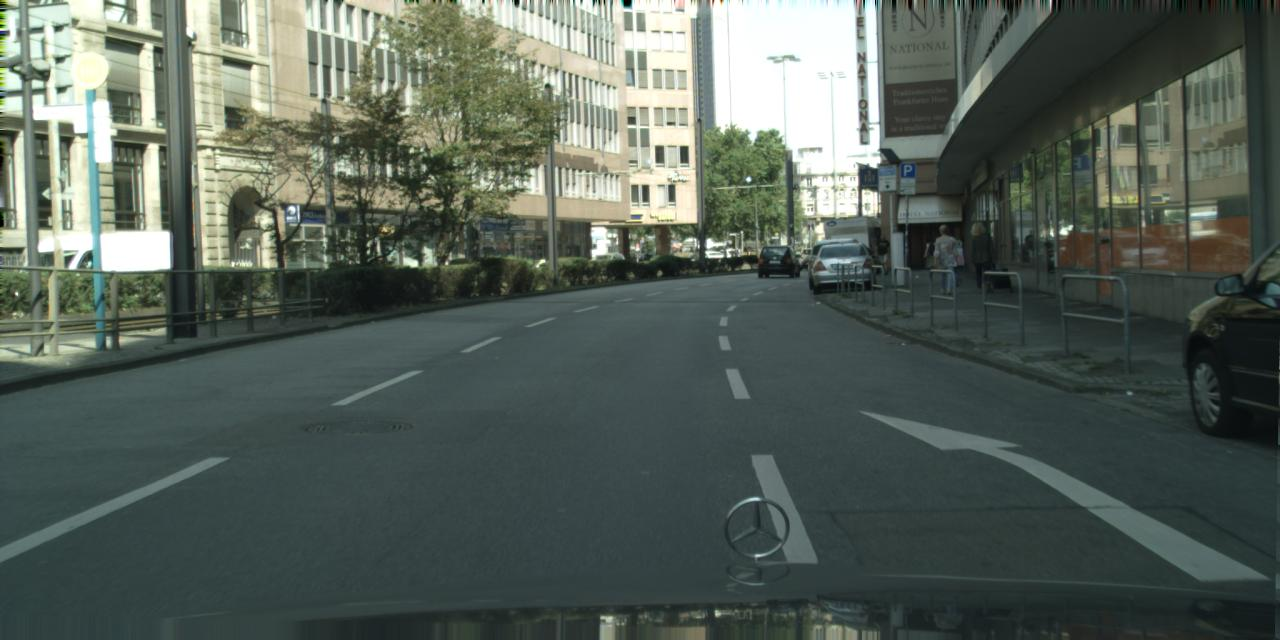ped: (966, 222, 996, 292), (930, 225, 958, 294), (924, 235, 941, 278), (875, 235, 891, 275)
